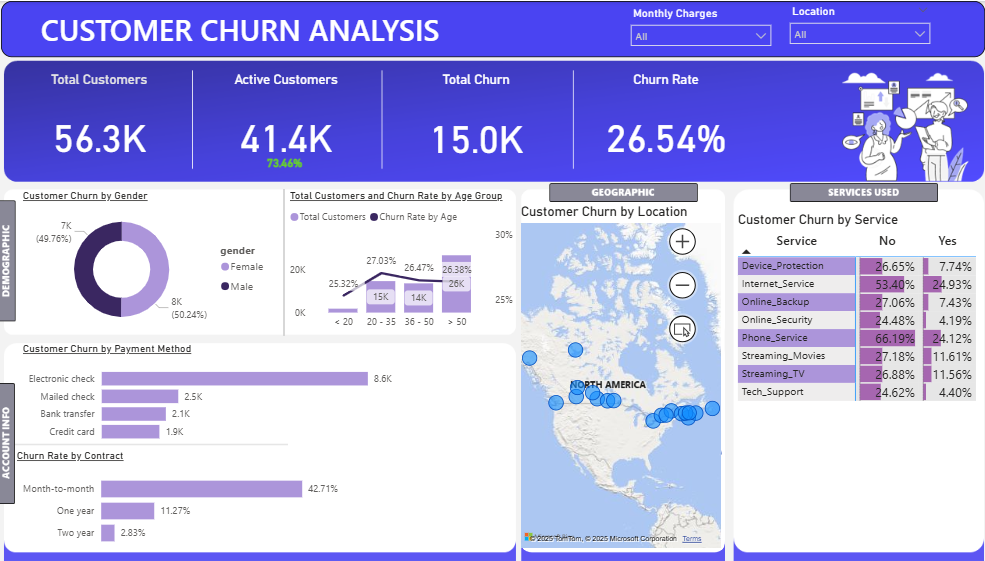

The dashboard page shown, as its layout file describes it:
{"tool":"powerbi","page":{"name":"Page 1","canvas":[1280,720],"ordinal":0},"visuals":[{"type":"textbox","box":[8.2,7.1,1260.6,71.5],"z":0},{"type":"card","title":"Total Customers","fields":{"Values":["Customer-Churn.Total Customers"]},"box":[8.2,88.8,204.1,140.9],"z":1000},{"type":"card","title":"Total Churn","fields":{"Values":["Customer-Churn.Total Churned"]},"box":[426.7,88.8,204,140],"z":2000,"group":"g1"},{"type":"barChart","title":"Customer Churn by Payment Method","fields":{"Category":["Customer-Churn.PaymentMethod"],"Y":["Customer-Churn.Churn Count by Payment Method"]},"box":[8.2,448.1,491,137.8],"z":2000},{"type":"card","fields":{"Values":["Customer-Churn.Active Customer %"]},"box":[224,192.4,198.4,33.8],"z":3000,"group":"g3"},{"type":"barChart","fields":{"Category":["Customer-Churn.Contract"],"Y":["Customer-Churn.Churn Rate"]},"box":[8.2,577.7,514.4,133.7],"z":3000},{"type":"card","title":"Churn Rate","fields":{"Values":["Customer-Churn.Churn Rate"]},"box":[639,87.8,204,140.9],"z":4000},{"type":"group","id":"g1","title":"Group 1","box":[426.7,88.8,204.1,139.8],"z":5000},{"type":"donutChart","title":"Customer Churn by Gender","fields":{"Category":["Customer-Churn.gender"],"Y":["Customer-Churn.Churned Customers"]},"box":[8.2,240.9,366.4,197],"z":6000},{"type":"pivotTable","title":"Customer Churn by Service","fields":{"Rows":["Customer-Churn.Service"],"Columns":["Customer-Churn.Churn"],"Values":["Customer-Churn.Churn %"]},"box":[951.3,240.9,317.4,449.1],"z":7000},{"type":"lineClusteredColumnComboChart","title":"Total Customers and Churn Rate by Age Group","fields":{"Y":["Customer-Churn.Total Customers"],"Category":["Customer-Churn.Age Group"],"Y2":["Customer-Churn.Churn Rate by Age"]},"box":[374.1,242.2,296,187.1],"z":9000},{"type":"map","title":"Customer Churn by Location","fields":{"Size":["Customer-Churn.Customer Count"],"Category":["Customer-Churn.Location"]},"box":[683.9,240.9,259.3,470.6],"z":12000},{"type":"group","id":"g2","title":"Group 2","box":[222.5,88.8,204,140],"z":13000},{"type":"slicer","fields":{"Values":["Customer-Churn.Monthly Charge Group"]},"box":[842.9,87.1,187.1,68.6],"z":14000},{"type":"card","title":"Active Customers","fields":{"Values":["Customer-Churn.Active Customers"]},"box":[222.5,88.8,204,140],"z":14000,"group":"g2"},{"type":"slicer","fields":{"Values":["Customer-Churn.Location"]},"box":[1044.3,87.1,225.7,68.6],"z":15000},{"type":"group","id":"g3","title":"Group 1","box":[224,192.4,198.4,33.8],"z":15000,"group":"g2"}]}

Visuals, with their boxes in screenshot pixels (x1, y1, x2, y2), scaled from the page's 1280x720 canvas onto the 985x561 screenshot:
textbox: x1=6 y1=6 x2=976 y2=61
"Total Customers" card: x1=6 y1=69 x2=163 y2=179
"Total Churn" card: x1=328 y1=69 x2=485 y2=178
"Customer Churn by Payment Method" barChart: x1=6 y1=349 x2=384 y2=457
card - Customer-Churn.Active Customer %: x1=172 y1=150 x2=325 y2=176
barChart - Customer-Churn.Contract x Customer-Churn.Churn Rate: x1=6 y1=450 x2=402 y2=554
"Churn Rate" card: x1=492 y1=68 x2=649 y2=178
"Group 1" group: x1=328 y1=69 x2=485 y2=178
"Customer Churn by Gender" donutChart: x1=6 y1=188 x2=288 y2=341
"Customer Churn by Service" pivotTable: x1=732 y1=188 x2=976 y2=538
"Total Customers and Churn Rate by Age Group" lineClusteredColumnComboChart: x1=288 y1=189 x2=516 y2=334
"Customer Churn by Location" map: x1=526 y1=188 x2=726 y2=554
"Group 2" group: x1=171 y1=69 x2=328 y2=178
slicer - Customer-Churn.Monthly Charge Group: x1=649 y1=68 x2=793 y2=121
"Active Customers" card: x1=171 y1=69 x2=328 y2=178
slicer - Customer-Churn.Location: x1=804 y1=68 x2=977 y2=121
"Group 1" group: x1=172 y1=150 x2=325 y2=176
